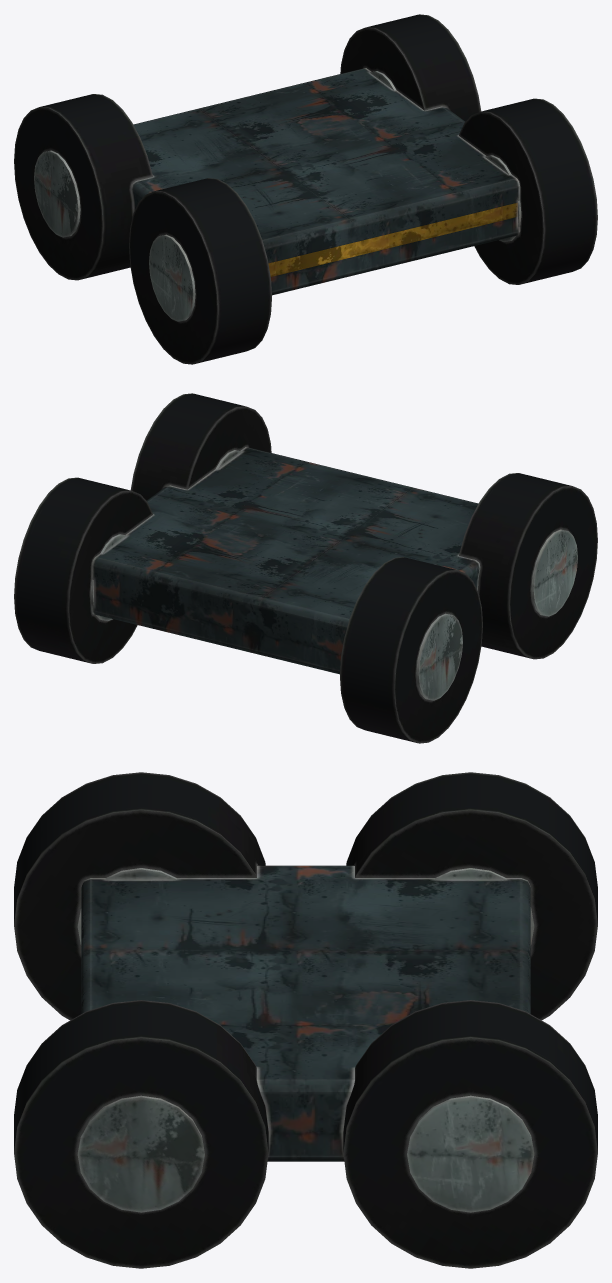
File: heavy_wheel.glb
3 renders of one model, top to bottom at view 1: azimuth 30°, elevation 25°; view 2: azimuth 150°, elevation 25°; view 3: azimuth 270°, elevation 25°, orthographic. The views are drawn at different scales.
Parts seen in each view (by area): view 1: te_heavy_wheel; view 2: te_heavy_wheel; view 3: te_heavy_wheel.
Boxes of the visible parts, x1,y1,x2,y2 form: te_heavy_wheel: (14,14,597,364); te_heavy_wheel: (14,393,597,743); te_heavy_wheel: (14,772,597,1268).
Bounding box in the file's own units: 0.85 × 0.34 × 0.78.
1 material, 1 textured.
